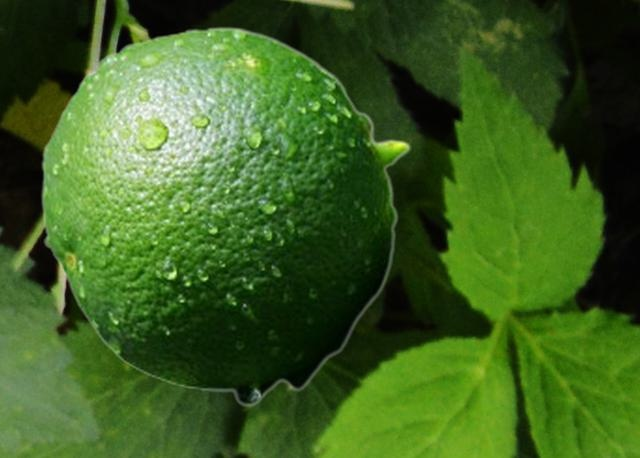dalandan: (40, 25, 410, 407)
